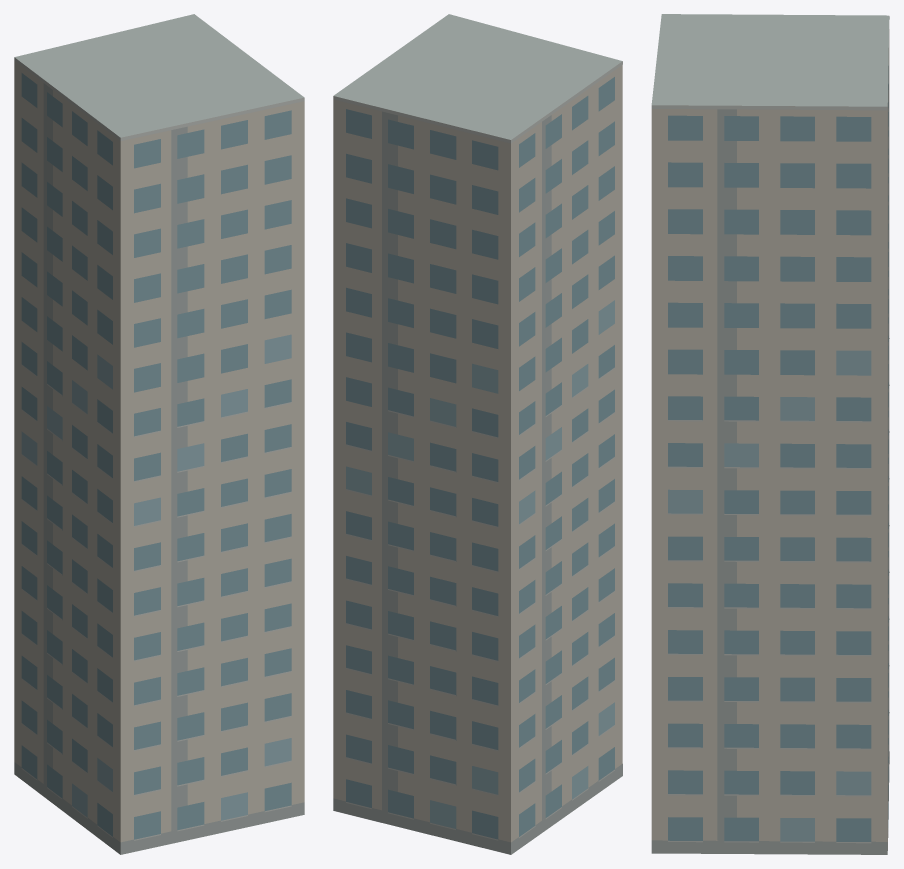
The model's file is residential-8f710008-56cc-4276-8629-33ecb8b644dd.glb.
3 renders of one model, left to right at view 1: azimuth 30°, elevation 25°; view 2: azimuth 150°, elevation 25°; view 3: azimuth 270°, elevation 25°, orthographic. The views are drawn at different scales.
Parts seen in each view (by area): view 1: residential-8f710008-56cc-4276-8629-33ecb8b644dd.tmp; view 2: residential-8f710008-56cc-4276-8629-33ecb8b644dd.tmp; view 3: residential-8f710008-56cc-4276-8629-33ecb8b644dd.tmp.
Part boxes in pixels (box(x1,y1,x2,y2)): residential-8f710008-56cc-4276-8629-33ecb8b644dd.tmp: box(14, 14, 304, 854); residential-8f710008-56cc-4276-8629-33ecb8b644dd.tmp: box(333, 14, 622, 854); residential-8f710008-56cc-4276-8629-33ecb8b644dd.tmp: box(651, 14, 889, 854).
Bounding box in the file's own units: 13.3 × 50 × 14.42.
